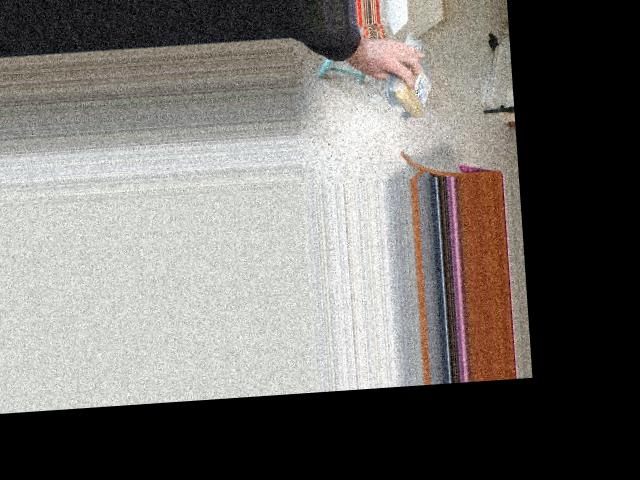cheese: (389, 55, 435, 122)
